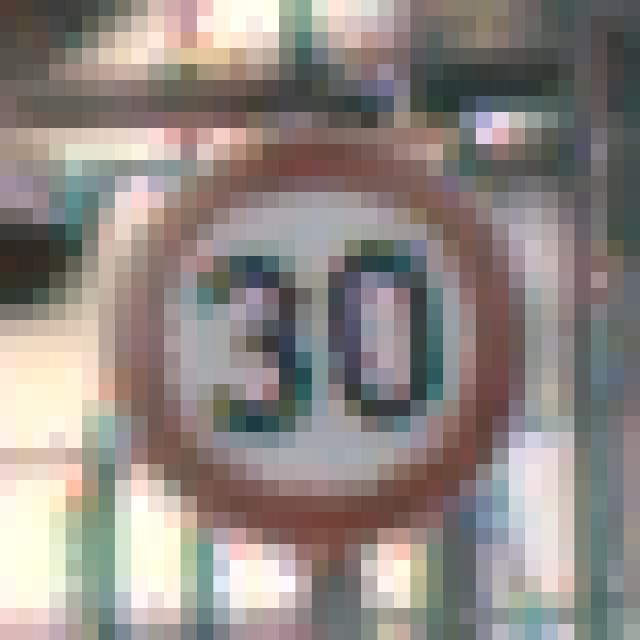Speed Limit -30-: (74, 88, 534, 536)
